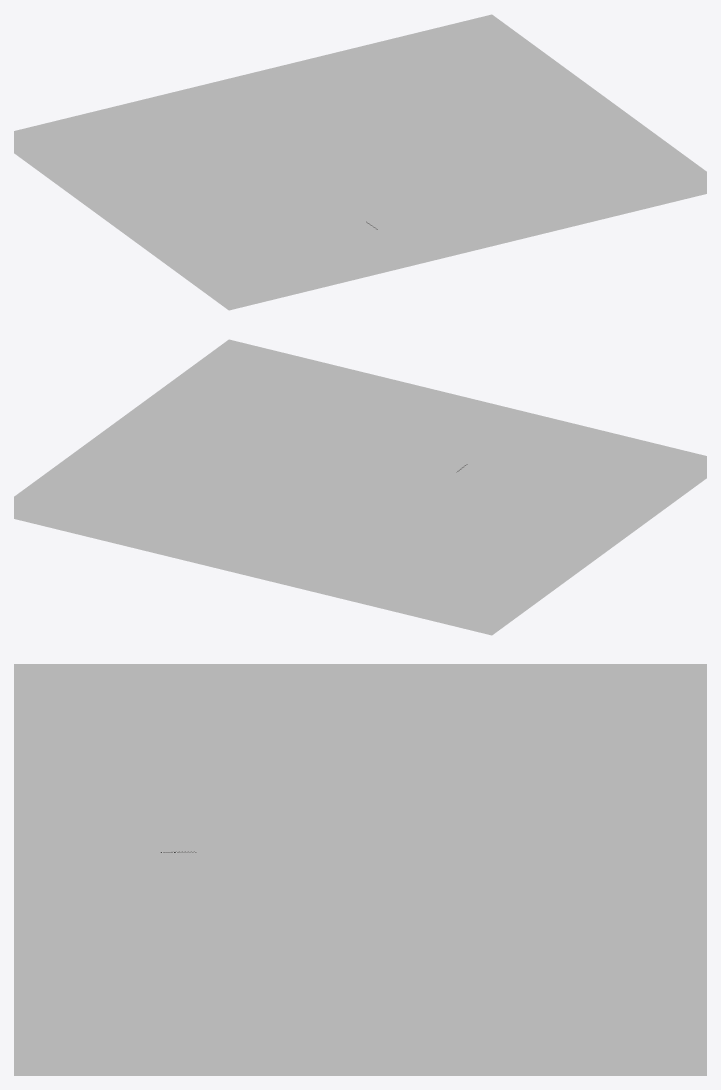
The model's file is penbay_pro_ccw.dae.
The picture shows the model from 3 angles, top to bottom: view 1: azimuth 30°, elevation 25°; view 2: azimuth 150°, elevation 25°; view 3: azimuth 270°, elevation 25°; orthographic projection. The views are drawn at different scales.
Visible parts, largest first — view 1: field, wall, road, il, ol, cl; view 2: field, wall, road, ol, il, cl; view 3: field, wall, road, ol, il, cl.
Part boxes in pixels (x1=…): field: x1=37, y1=36, x2=683, y2=288; wall: x1=14, y1=14, x2=706, y2=310; road: x1=136, y1=58, x2=616, y2=287; il: x1=134, y1=57, x2=618, y2=287; ol: x1=158, y1=67, x2=594, y2=280; cl: x1=147, y1=62, x2=605, y2=284; field: x1=37, y1=361, x2=683, y2=613; wall: x1=14, y1=339, x2=706, y2=635; road: x1=66, y1=408, x2=657, y2=584; ol: x1=88, y1=417, x2=635, y2=574; il: x1=64, y1=407, x2=659, y2=584; cl: x1=77, y1=412, x2=646, y2=579; field: x1=14, y1=699, x2=706, y2=1040; wall: x1=14, y1=664, x2=706, y2=1075; road: x1=47, y1=713, x2=673, y2=1040; ol: x1=83, y1=729, x2=637, y2=1040; il: x1=44, y1=712, x2=676, y2=1040; cl: x1=64, y1=721, x2=656, y2=1040.
Bounding box in the file's own units: 22.59 × 17.59 × 1.
